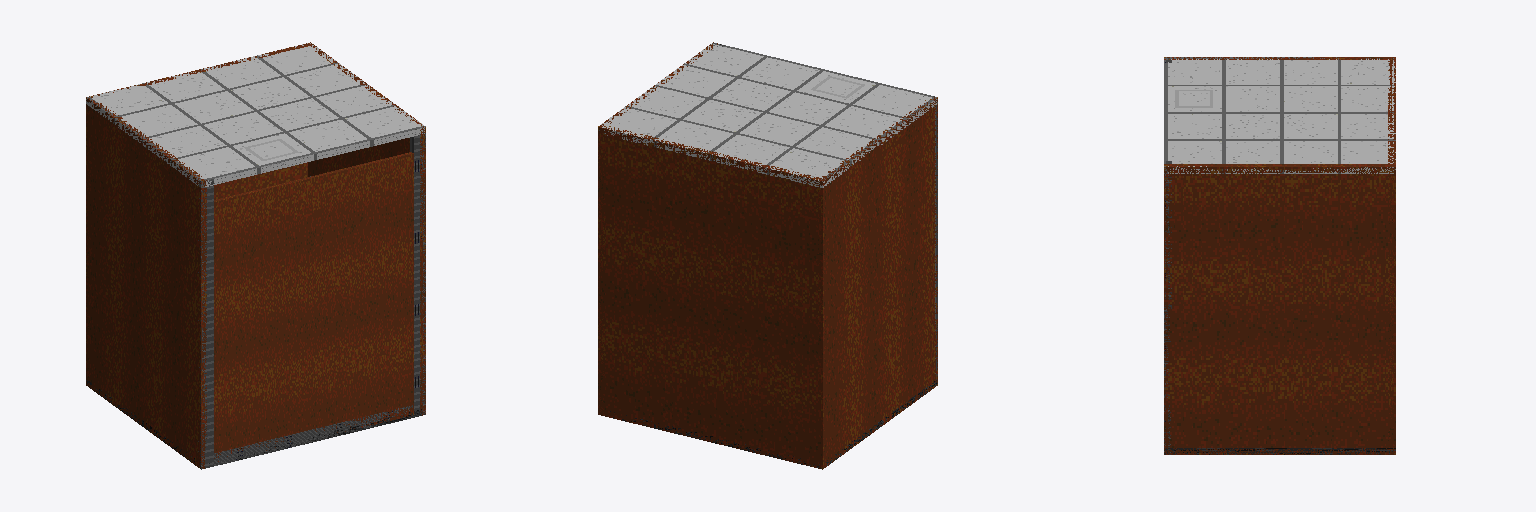
The picture shows the model from 3 angles: view 1: azimuth 30°, elevation 25°; view 2: azimuth 150°, elevation 25°; view 3: azimuth 270°, elevation 25°; orthographic projection.
Visible parts, largest first — view 1: Wall_Left, Ceiling, Door_R, Door_L, Wall_Right, Frame_Left, Wall_Back, Frame_Right, Frame_Top, Floor; view 2: Wall_Back, Wall_Left, Ceiling, Wall_Right, Floor; view 3: Wall_Right, Ceiling, Wall_Back, Floor.
Boxes of the visible parts, <box> form: Wall_Left: <box>86,98,206,468</box>; Ceiling: <box>86,43,425,187</box>; Door_R: <box>312,152,413,432</box>; Door_L: <box>214,176,313,461</box>; Wall_Right: <box>305,44,425,415</box>; Frame_Left: <box>198,179,213,469</box>; Wall_Back: <box>86,42,313,386</box>; Frame_Right: <box>410,128,425,414</box>; Frame_Top: <box>214,405,412,465</box>; Floor: <box>86,380,424,468</box>; Wall_Back: <box>598,125,825,468</box>; Wall_Left: <box>817,97,937,469</box>; Ceiling: <box>599,43,937,187</box>; Wall_Right: <box>598,42,717,415</box>; Floor: <box>610,380,937,468</box>; Wall_Right: <box>1164,164,1395,454</box>; Ceiling: <box>1164,57,1395,173</box>; Wall_Back: <box>1388,57,1395,454</box>; Floor: <box>1164,448,1395,454</box>.
Bounding box in the file's own units: 1.8 × 2.2 × 1.6.
Materials: 5 (5 with a texture image).